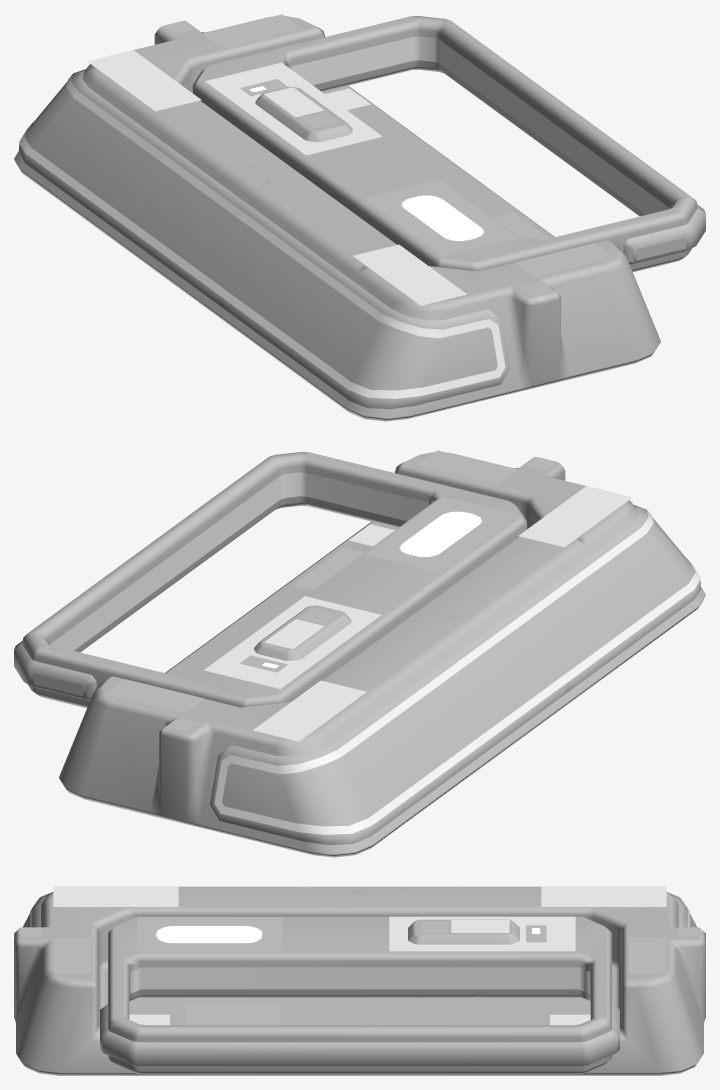
File: SM_Modular_Part_1.fbx
3 renders of one model, top to bottom at view 1: azimuth 30°, elevation 25°; view 2: azimuth 150°, elevation 25°; view 3: azimuth 270°, elevation 25°, orthographic. The views are drawn at different scales.
Visible parts, largest first — view 1: SM_Modular_Part_1_LOD0; view 2: SM_Modular_Part_1_LOD0; view 3: SM_Modular_Part_1_LOD0.
Part boxes in pixels (<box>): SM_Modular_Part_1_LOD0: <box>14,14,705,421</box>; SM_Modular_Part_1_LOD0: <box>14,450,705,857</box>; SM_Modular_Part_1_LOD0: <box>14,886,705,1075</box>.
Bounding box in the file's own units: 38.81 × 63.25 × 9.3.
